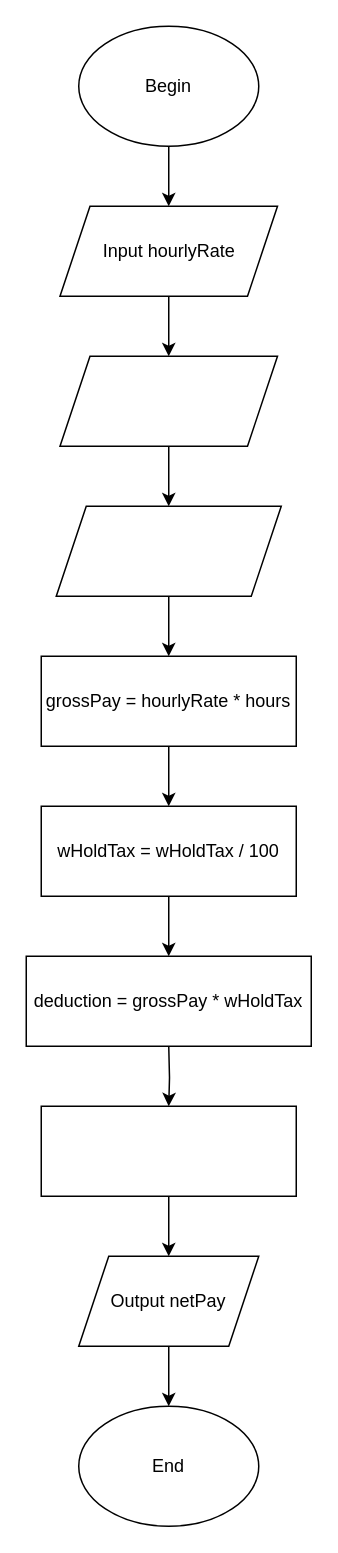
Some shapes in this 338 by 1553 pixel diagram are drawn without their labels. The shapes that lost their labels are listed below. From the top down, each one's centre as x and y in pixels, then its label:
the point at 168,400: Input hours
the point at 168,550: Input wHoldTax
the point at 168,1150: netPay = grossPay - deduction
